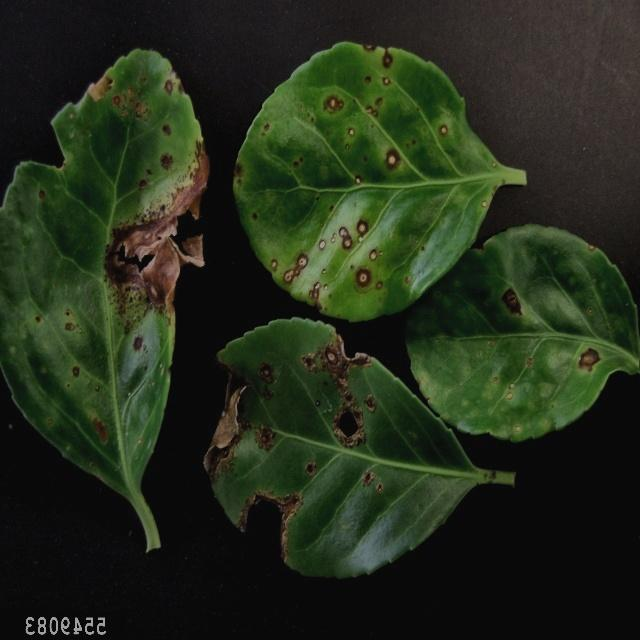leaf_spot: (9, 18, 218, 482), (222, 35, 535, 325), (195, 314, 489, 596), (395, 222, 640, 469)
